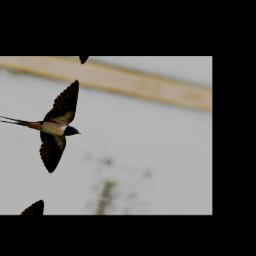Swallow: (0, 64, 97, 179)
